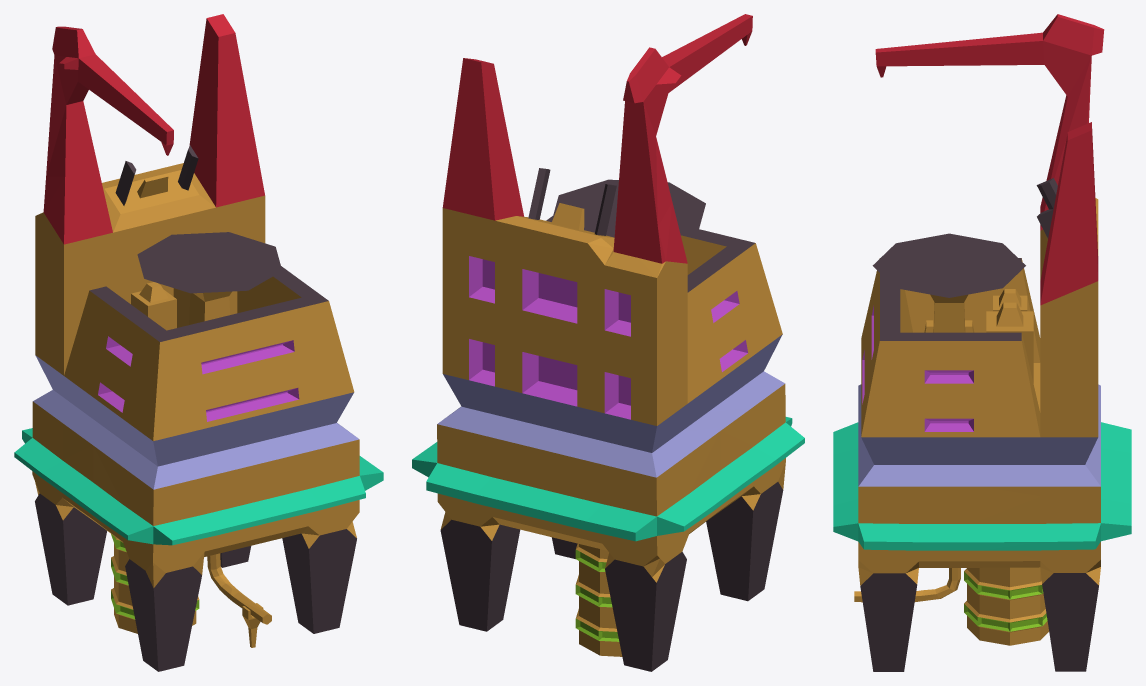
Rendered from petrol.FBX.
The picture shows the model from 3 angles, left to right: view 1: azimuth 30°, elevation 25°; view 2: azimuth 150°, elevation 25°; view 3: azimuth 270°, elevation 25°; orthographic projection. The views are drawn at different scales.
Parts seen in each view (by area): view 1: Box004_Part_1, Box004_Part_3, Box004_Part_2, Box004_Part_4, Box004_Part_5, Box004_Part_6; view 2: Box004_Part_4, Box004_Part_1, Box004_Part_6, Box004_Part_2, Box004_Part_5, Box004_Part_3; view 3: Box004_Part_3, Box004_Part_5, Box004_Part_4, Box004_Part_1, Box004_Part_6, Box004_Part_2.
Boxes of the visible parts, <box> form: Box004_Part_1: <box>35,176,253,516</box>; Box004_Part_3: <box>149,226,383,533</box>; Box004_Part_2: <box>14,406,287,671</box>; Box004_Part_4: <box>46,14,265,247</box>; Box004_Part_5: <box>192,522,356,647</box>; Box004_Part_6: <box>17,337,76,480</box>; Box004_Part_4: <box>442,14,752,306</box>; Box004_Part_1: <box>567,187,785,432</box>; Box004_Part_6: <box>489,343,680,619</box>; Box004_Part_2: <box>599,412,804,671</box>; Box004_Part_5: <box>412,411,620,656</box>; Box004_Part_3: <box>442,179,677,422</box>; Box004_Part_3: <box>833,258,1098,565</box>; Box004_Part_5: <box>858,456,1131,671</box>; Box004_Part_4: <box>875,14,1104,359</box>; Box004_Part_1: <box>858,150,1098,433</box>; Box004_Part_6: <box>1033,375,1131,494</box>; Box004_Part_2: <box>833,422,976,628</box>.
Bounding box in the file's own units: 318 × 697 × 321.
